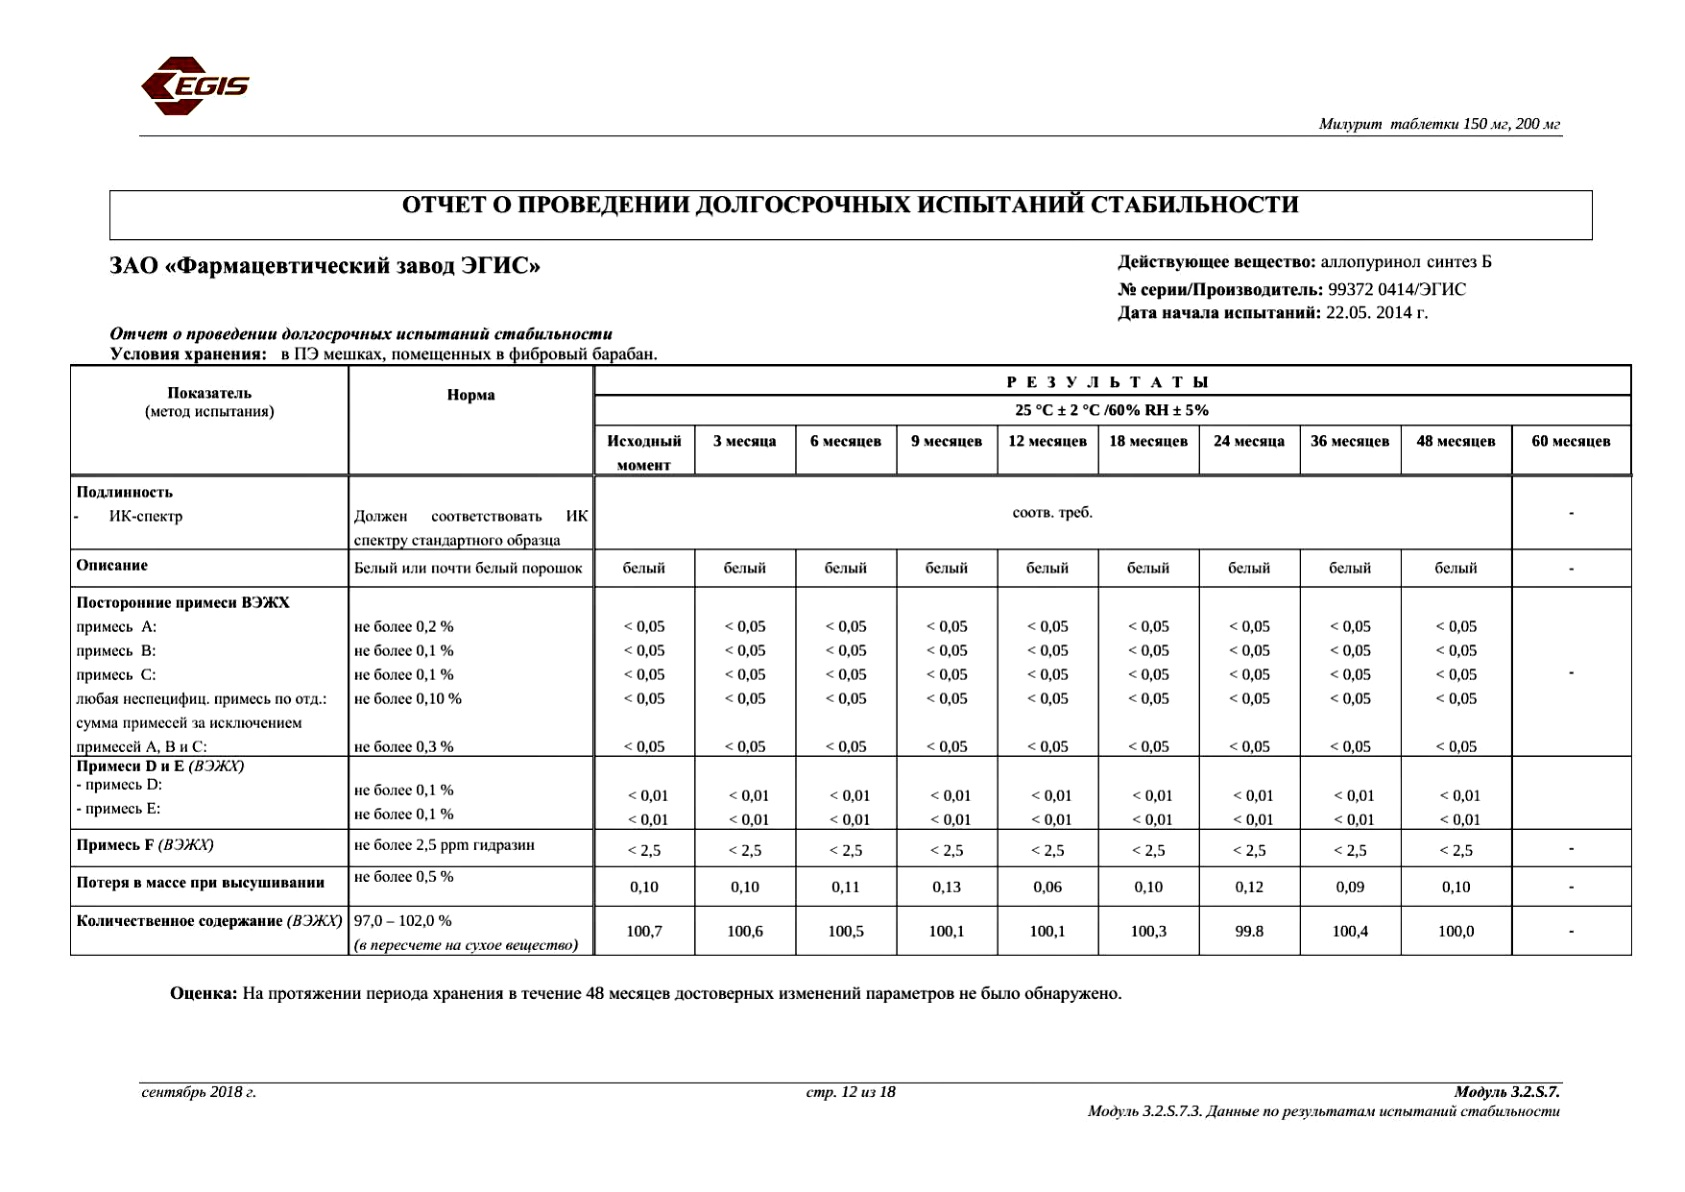full_lined: (108, 190, 1593, 240)
merged_cells: (68, 363, 1633, 956)
